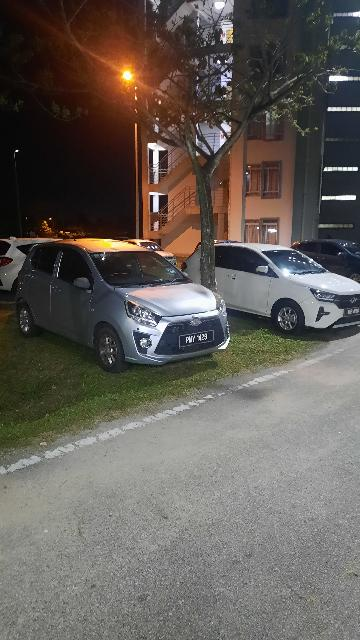License_Plate: (176, 328, 220, 350), (341, 303, 360, 319)
car: (17, 231, 232, 373), (182, 238, 360, 332)
